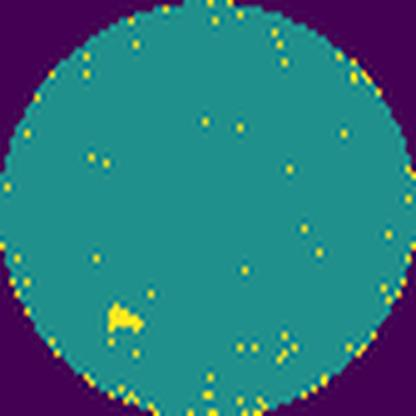Loc: (108, 301, 148, 337)
